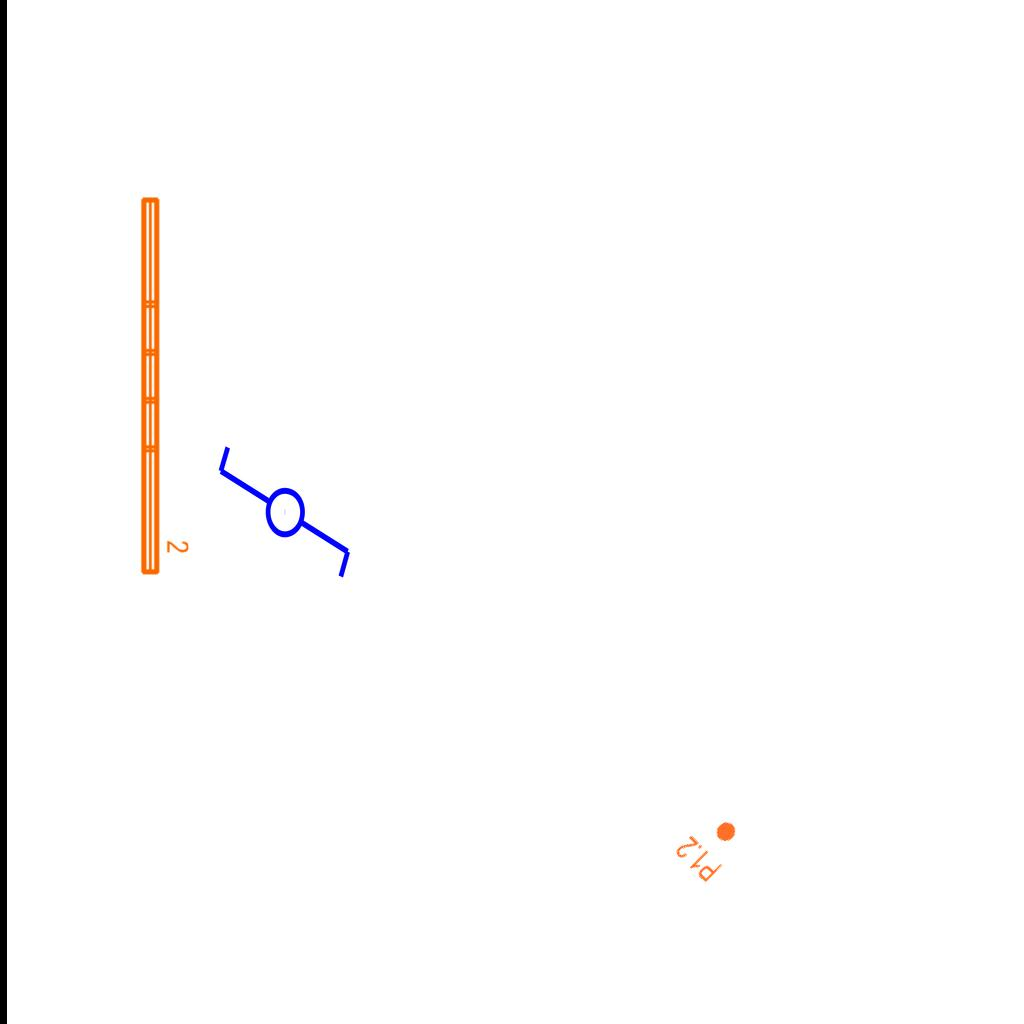Ambulanz_Pendelleuchte_LED: (135, 192, 191, 579)
Downlight_LED_Einbauleuchten_Flur: (672, 807, 750, 885)
Wechselschalter: (211, 442, 355, 599)
